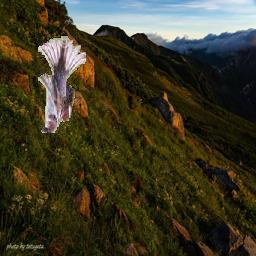Sparrow: (38, 37, 86, 134)
